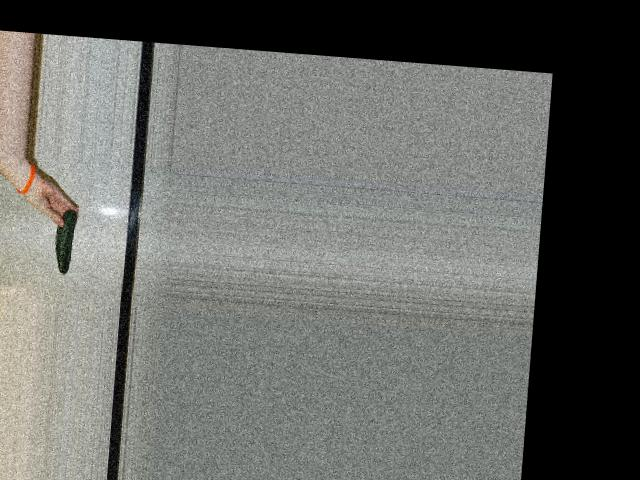cucumber: (54, 208, 78, 275)
